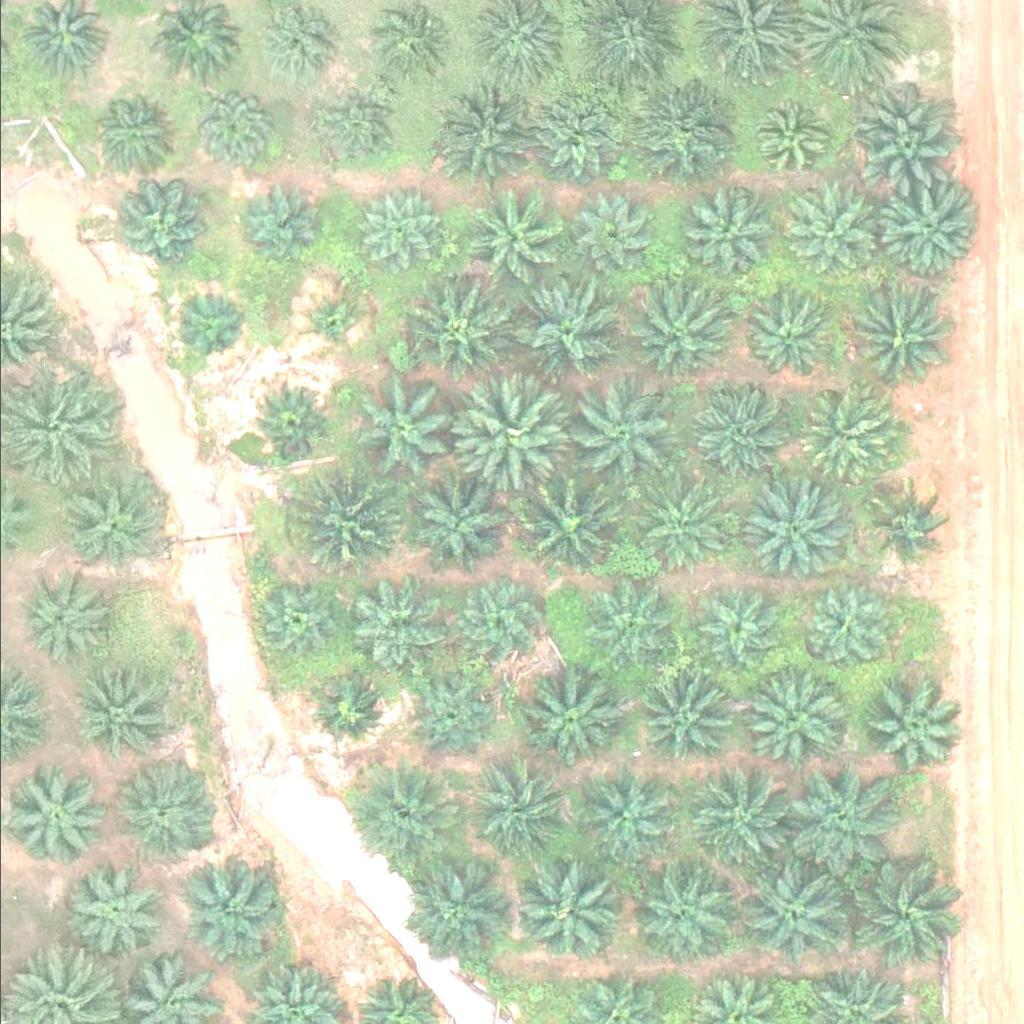Kelapa_Sawit: (619, 279, 733, 392), (629, 855, 743, 968), (624, 74, 737, 187), (454, 385, 567, 498), (519, 659, 632, 772), (783, 761, 896, 874), (339, 758, 452, 871), (735, 859, 848, 972), (518, 847, 631, 960), (843, 92, 957, 204), (559, 384, 673, 496), (510, 278, 623, 390), (408, 277, 521, 389), (345, 380, 458, 492), (739, 473, 852, 585), (514, 473, 627, 585), (293, 471, 406, 583), (736, 661, 849, 773), (679, 764, 792, 876), (458, 752, 571, 864), (847, 858, 960, 970), (395, 851, 508, 963), (882, 177, 983, 277), (776, 180, 877, 280), (463, 189, 564, 289), (845, 281, 946, 381), (800, 388, 901, 488), (637, 480, 738, 580), (403, 473, 504, 573), (59, 476, 160, 576), (336, 571, 437, 671), (857, 671, 958, 771), (636, 664, 737, 764), (181, 854, 282, 954), (116, 762, 217, 862), (67, 662, 168, 762), (6, 767, 107, 867), (441, 90, 541, 190), (687, 389, 787, 489), (579, 763, 679, 863), (66, 858, 166, 958), (689, 187, 777, 275), (568, 195, 656, 283), (348, 187, 436, 275), (109, 184, 197, 272), (304, 667, 392, 755), (696, 579, 784, 667), (17, 577, 105, 665), (82, 89, 170, 176), (189, 84, 277, 171), (310, 84, 398, 171), (743, 95, 831, 182), (526, 96, 614, 183), (242, 182, 330, 269), (736, 296, 824, 383), (864, 487, 952, 574), (805, 577, 893, 664), (578, 582, 666, 669), (453, 578, 541, 665), (249, 580, 337, 667), (408, 673, 496, 760), (253, 382, 329, 457), (171, 288, 246, 363), (294, 289, 357, 352)
